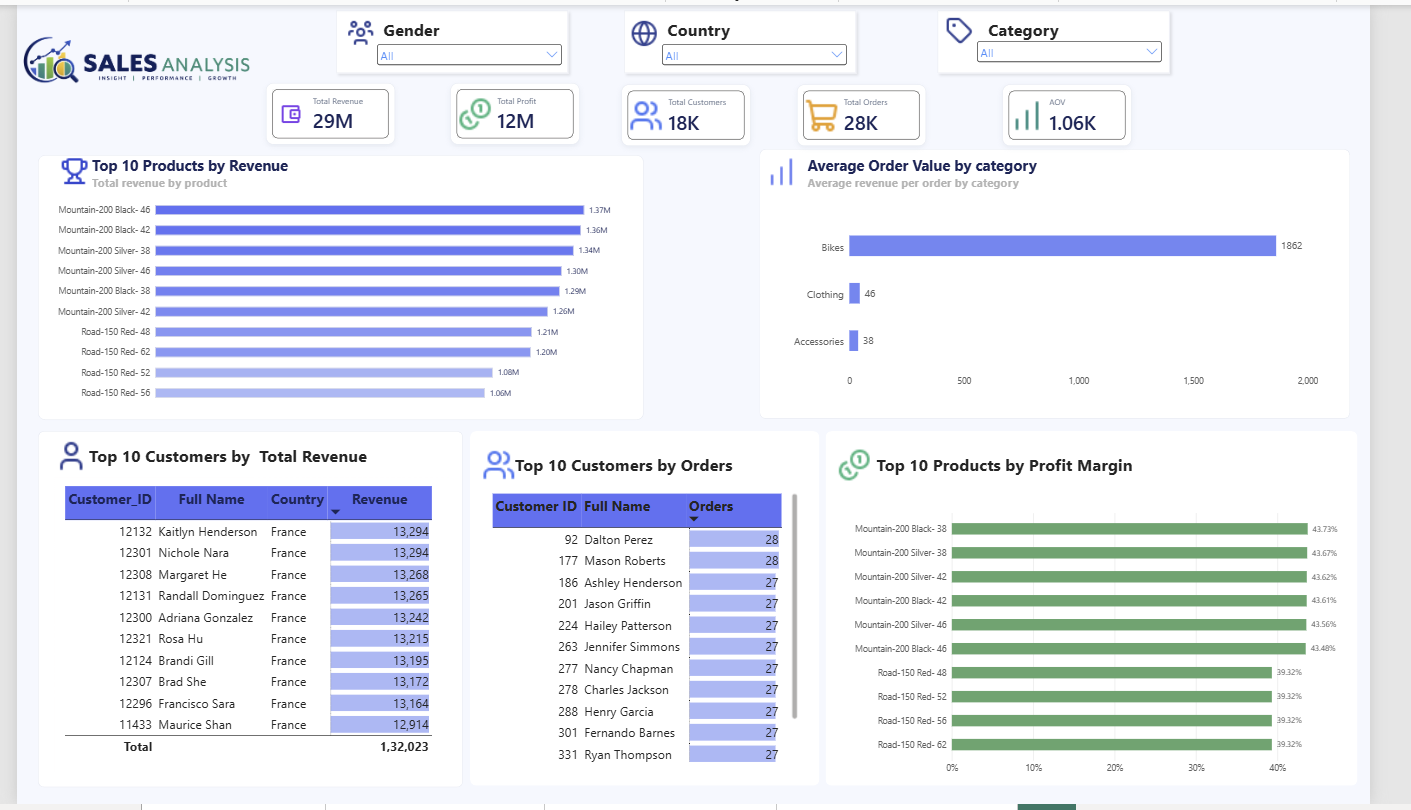

The dashboard page shown, as its layout file describes it:
{"tool":"powerbi","page":{"name":" Sales Overview","canvas":[2200,1300],"ordinal":0},"visuals":[{"type":"shape","title":"Gender","box":[1489.9,0,395.6,120],"z":0},{"type":"slicer","title":"Gender","fields":{"Values":["gold dim_customers.gender"]},"box":[581.1,58.9,310,50],"z":0,"group":"g1"},{"type":"shape","title":"Gender","box":[978.6,0,395.6,120],"z":1000},{"type":"image","box":[536.7,21.1,44.4,48.9],"z":1000,"group":"g1"},{"type":"textbox","box":[558.9,21.1,173.3,55.6],"z":2000,"group":"g1"},{"type":"slicer","title":"Gender","fields":{"Values":["gold dim_products.category"]},"box":[1556.1,54.1,310,50],"z":2000},{"type":"shape","box":[34.3,242.9,985.7,431.4],"z":3000},{"type":"image","box":[1511.6,16.3,44.4,48.9],"z":4000},{"type":"slicer","title":"Gender","fields":{"Values":["gold dim_customers.country"]},"box":[1043.8,58.6,310,50],"z":5000},{"type":"textbox","box":[1555,21.7,173.3,55.6],"z":6000},{"type":"clusteredBarChart","title":"Top 10 Products by Revenue","fields":{"Category":["gold dim_products.product_name"],"Y":["Measures (2).TotalSales"]},"box":[40,291.4,942.8,378.8],"z":7000},{"type":"image","box":[999.4,20.8,44.4,48.9],"z":8000},{"type":"shape","box":[1208.6,234.3,960.9,439.1],"z":9000},{"type":"textbox","box":[1021.6,20.8,173.3,55.6],"z":10000},{"type":"cardVisual","title":"Total Revenue","fields":{"Data":["Measures (2).Total Revenue"]},"box":[405.9,127.8,210,100],"z":11000},{"type":"clusteredBarChart","title":"Average Order Value by category","fields":{"Category":["gold dim_products.category"],"Y":["Measure Table.AOV"]},"box":[1242.9,322.9,890.8,319.7],"z":12000},{"type":"shape","box":[34.3,694.3,691.4,580],"z":13000},{"type":"tableEx","title":"Top 10 customers by Revenue ","fields":{"Values":["gold dim_customers.customer_id","gold dim_customers.full name","gold dim_customers.country","Measure Table.Total Revenue"]},"box":[60,768.6,648.5,478.8],"z":14000},{"type":"shape","box":[737.1,694.3,568.6,577.1],"z":15000},{"type":"shape","box":[1314.3,694.3,865.7,577.1],"z":16000},{"type":"tableEx","title":"Customers with Highest Order Frequency","fields":{"Values":["gold dim_customers.customer_key","gold dim_customers.full name","Measure Table.no_of_orders"]},"box":[757.1,780,529.2,466.8],"z":17000},{"type":"clusteredBarChart","title":"Top 10 Products by Profit","fields":{"Category":["gold dim_products.product_name"],"Y":["Measure Table.Profit Margin %"]},"box":[1335,805.4,844,466.8],"z":18000},{"type":"image","box":[0,0,383.3,180],"z":19000},{"type":"shape","title":"Gender","box":[510,0,395.6,120],"z":20000},{"type":"cardVisual","title":"Total Revenue","fields":{"Data":["Measure Table.TOTAL PROFIT"]},"box":[705.7,125.7,210,100],"z":21000},{"type":"cardVisual","title":"Total Revenue","fields":{"Data":["Measure Table.No of Customer"]},"box":[982.9,128.6,210,100],"z":22000},{"type":"cardVisual","title":"Total Revenue","fields":{"Data":["Measure Table.Total Orders"]},"box":[1268.6,128.6,210,100],"z":23000},{"type":"cardVisual","title":"Total Revenue","fields":{"Data":["Measure Table.AOV"]},"box":[1602.9,128.6,210,100],"z":24000},{"type":"image","box":[71.4,242.9,45.7,53],"z":25000},{"type":"textbox","box":[122.9,242.9,422.1,104.1],"z":26000},{"type":"textbox","box":[1285.7,242.9,423.9,108.7],"z":27000},{"type":"image","box":[1217.1,242.9,52.2,54.3],"z":28000},{"type":"image","box":[757.1,714.3,54.5,66.7],"z":29000},{"type":"textbox","box":[117.1,714.3,477.6,51.6],"z":30000},{"type":"textbox","box":[811.4,728.6,417.3,68.3],"z":31000},{"type":"image","box":[60,700,54.5,66.7],"z":32000},{"type":"textbox","box":[1398.5,729.7,466.8,54.3],"z":33000},{"type":"image","box":[1335,715.1,54.5,66.7],"z":34000},{"type":"group","id":"g1","title":"Group 1","box":[536.7,21.1,354.4,87.8],"z":36000}]}

Visuals, with their boxes in screenshot pixels (x1, y1, x2, y2), scaled from the page's 2200x1300 canvas onto the 1411x810 screenshot:
"Gender" shape: {"left": 956, "top": 0, "right": 1209, "bottom": 75}
"Gender" slicer: {"left": 373, "top": 37, "right": 572, "bottom": 68}
"Gender" shape: {"left": 628, "top": 0, "right": 881, "bottom": 75}
image: {"left": 344, "top": 13, "right": 373, "bottom": 44}
textbox: {"left": 358, "top": 13, "right": 470, "bottom": 48}
"Gender" slicer: {"left": 998, "top": 34, "right": 1197, "bottom": 65}
shape: {"left": 22, "top": 151, "right": 654, "bottom": 420}
image: {"left": 969, "top": 10, "right": 998, "bottom": 41}
"Gender" slicer: {"left": 669, "top": 37, "right": 868, "bottom": 68}
textbox: {"left": 997, "top": 14, "right": 1108, "bottom": 48}
"Top 10 Products by Revenue" clusteredBarChart: {"left": 26, "top": 182, "right": 630, "bottom": 418}
image: {"left": 641, "top": 13, "right": 669, "bottom": 43}
shape: {"left": 775, "top": 146, "right": 1391, "bottom": 420}
textbox: {"left": 655, "top": 13, "right": 766, "bottom": 48}
"Total Revenue" cardVisual: {"left": 260, "top": 80, "right": 395, "bottom": 142}
"Average Order Value by category" clusteredBarChart: {"left": 797, "top": 201, "right": 1368, "bottom": 400}
shape: {"left": 22, "top": 433, "right": 465, "bottom": 794}
"Top 10 customers by Revenue " tableEx: {"left": 38, "top": 479, "right": 454, "bottom": 777}
shape: {"left": 473, "top": 433, "right": 837, "bottom": 792}
shape: {"left": 843, "top": 433, "right": 1398, "bottom": 792}
"Customers with Highest Order Frequency" tableEx: {"left": 486, "top": 486, "right": 825, "bottom": 777}
"Top 10 Products by Profit" clusteredBarChart: {"left": 856, "top": 502, "right": 1398, "bottom": 793}
image: {"left": 0, "top": 0, "right": 246, "bottom": 112}
"Gender" shape: {"left": 327, "top": 0, "right": 581, "bottom": 75}
"Total Revenue" cardVisual: {"left": 453, "top": 78, "right": 587, "bottom": 141}
"Total Revenue" cardVisual: {"left": 630, "top": 80, "right": 765, "bottom": 142}
"Total Revenue" cardVisual: {"left": 814, "top": 80, "right": 948, "bottom": 142}
"Total Revenue" cardVisual: {"left": 1028, "top": 80, "right": 1163, "bottom": 142}
image: {"left": 46, "top": 151, "right": 75, "bottom": 184}
textbox: {"left": 79, "top": 151, "right": 350, "bottom": 216}
textbox: {"left": 825, "top": 151, "right": 1096, "bottom": 219}
image: {"left": 781, "top": 151, "right": 814, "bottom": 185}
image: {"left": 486, "top": 445, "right": 521, "bottom": 487}
textbox: {"left": 75, "top": 445, "right": 381, "bottom": 477}
textbox: {"left": 520, "top": 454, "right": 788, "bottom": 497}
image: {"left": 38, "top": 436, "right": 73, "bottom": 478}
textbox: {"left": 897, "top": 455, "right": 1196, "bottom": 488}
image: {"left": 856, "top": 446, "right": 891, "bottom": 487}
"Group 1" group: {"left": 344, "top": 13, "right": 572, "bottom": 68}
